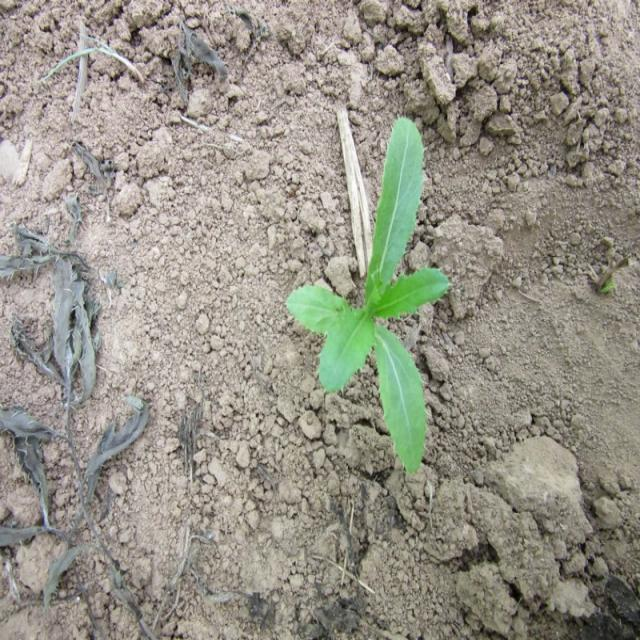cs: (283, 111, 451, 486)
